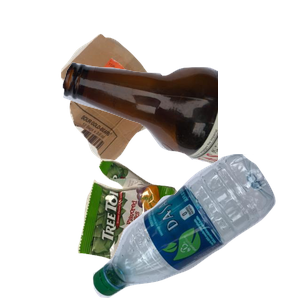cardboard: (58, 31, 222, 188)
glass: (60, 59, 300, 217)
plastic: (90, 154, 300, 300)
trash: (75, 156, 244, 300)
